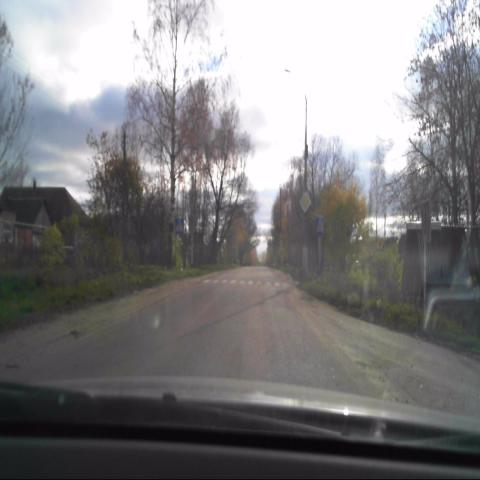2_1: (300, 190, 311, 213)
5_19_1: (315, 216, 323, 235), (176, 218, 186, 233)
